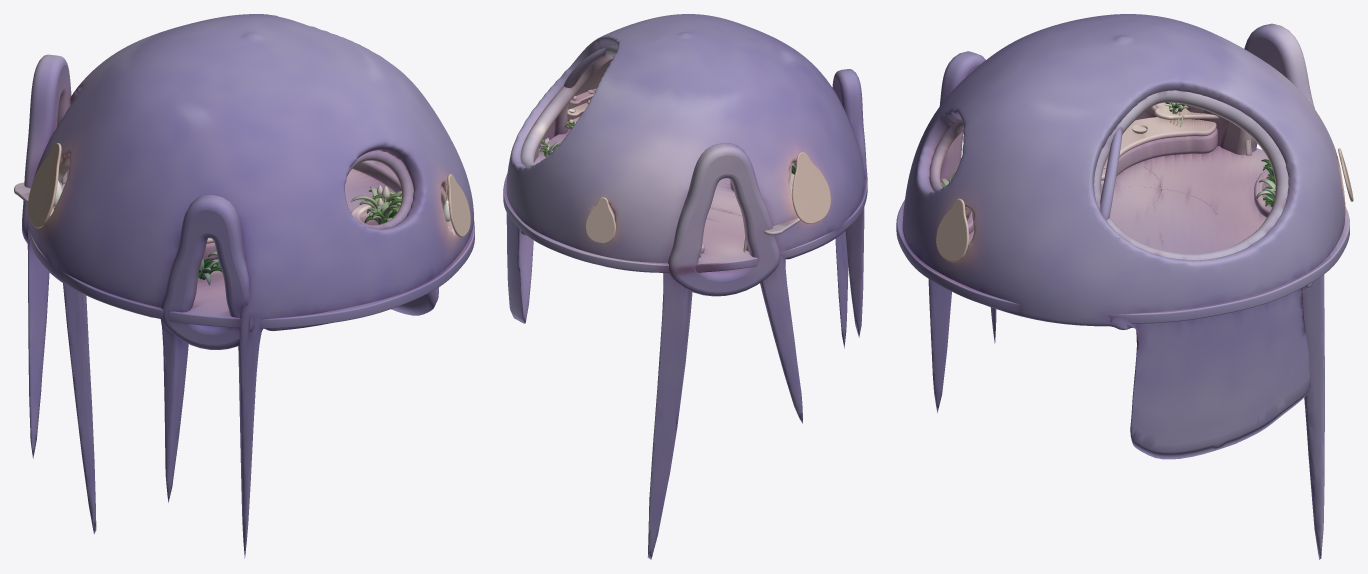
The model's file is workshop.glb.
3 views of the same model, side by side, from view 1: azimuth 30°, elevation 25°; view 2: azimuth 150°, elevation 25°; view 3: azimuth 270°, elevation 25° (orthographic). The views are drawn at different scales.
Parts seen in each view (by area): view 1: Workshop_Shell, Door_Nursery_PetalFrame, Floor_Main, Door_Garden_PetalFrame, Niche_Left_Back, WindowRim_Back, Niche_Back_Back, WindowLedge; view 2: Workshop_Shell, Door_Garden_PetalFrame, Floor_Main, Niche_Left_Back, WindowRim_Right, Door_Nursery_PetalFrame, Niche_Center_Back, Ceiling_PetalRib_5; view 3: Workshop_Shell, Floor_Main, WindowRim_Right, Door_Garden_PetalFrame, Workbench_Top, Workbench_Base, Door_Nursery_PetalFrame, Niche_Back_Back, Ceiling_PetalRib_5, WindowRim_Back.
Part boxes in pixels (box(x1,y1,x2,y2)): Workshop_Shell: box(27, 14, 473, 558); Door_Nursery_PetalFrame: box(161, 195, 254, 349); Floor_Main: box(28, 169, 474, 328); Door_Garden_PetalFrame: box(22, 54, 71, 243); Niche_Left_Back: box(28, 143, 61, 228); WindowRim_Back: box(347, 150, 413, 229); Niche_Back_Back: box(447, 174, 470, 237); WindowLedge: box(352, 156, 407, 195); Workshop_Shell: box(506, 14, 864, 559); Door_Garden_PetalFrame: box(668, 143, 780, 296); Floor_Main: box(503, 173, 867, 273); Niche_Left_Back: box(792, 152, 830, 223); WindowRim_Right: box(520, 45, 617, 166); Door_Nursery_PetalFrame: box(832, 69, 867, 179); Niche_Center_Back: box(585, 197, 615, 243); Ceiling_PetalRib_5: box(554, 47, 605, 136); Workshop_Shell: box(902, 14, 1345, 559); Floor_Main: box(896, 146, 1349, 323); WindowRim_Right: box(1094, 90, 1288, 260); Door_Garden_PetalFrame: box(1220, 23, 1314, 155); Workbench_Top: box(1101, 117, 1216, 180); Workbench_Base: box(1100, 128, 1217, 193); Door_Nursery_PetalFrame: box(939, 51, 985, 182); Niche_Back_Back: box(936, 198, 968, 262); Ceiling_PetalRib_5: box(1100, 127, 1122, 219); WindowRim_Back: box(929, 119, 963, 191).
Size of the model in its own units: 15.86 by 21.91 by 16.48.
